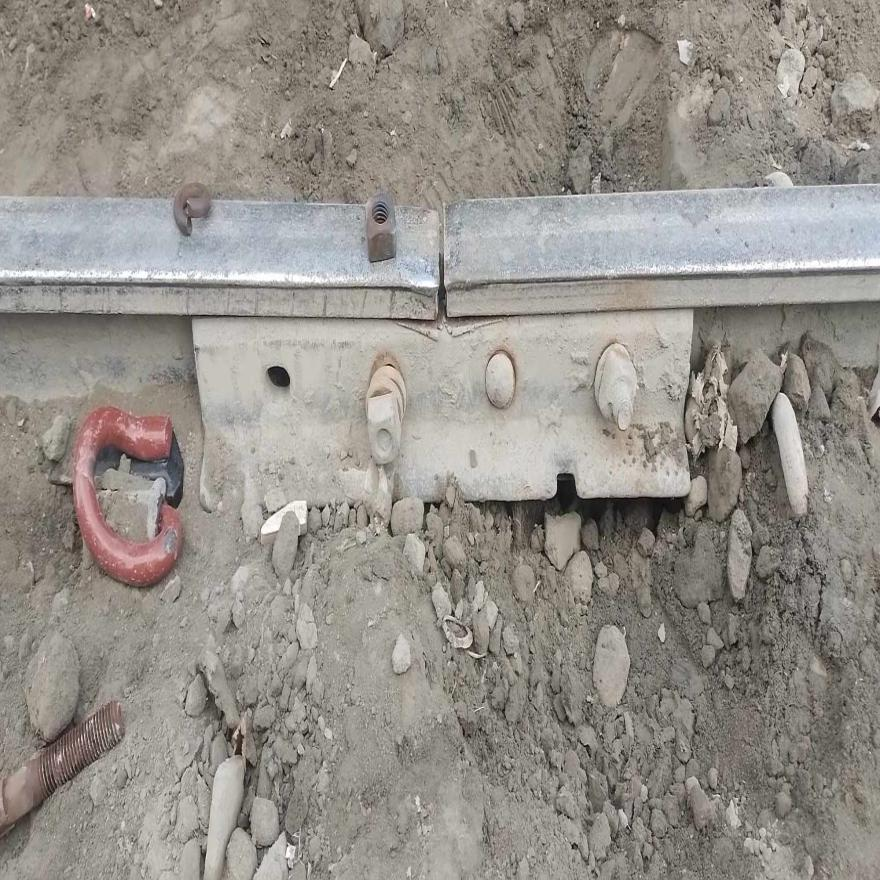railway-gap: (399, 184, 484, 336)
